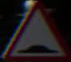Speed Breaker ahead: (5, 4, 61, 53)
